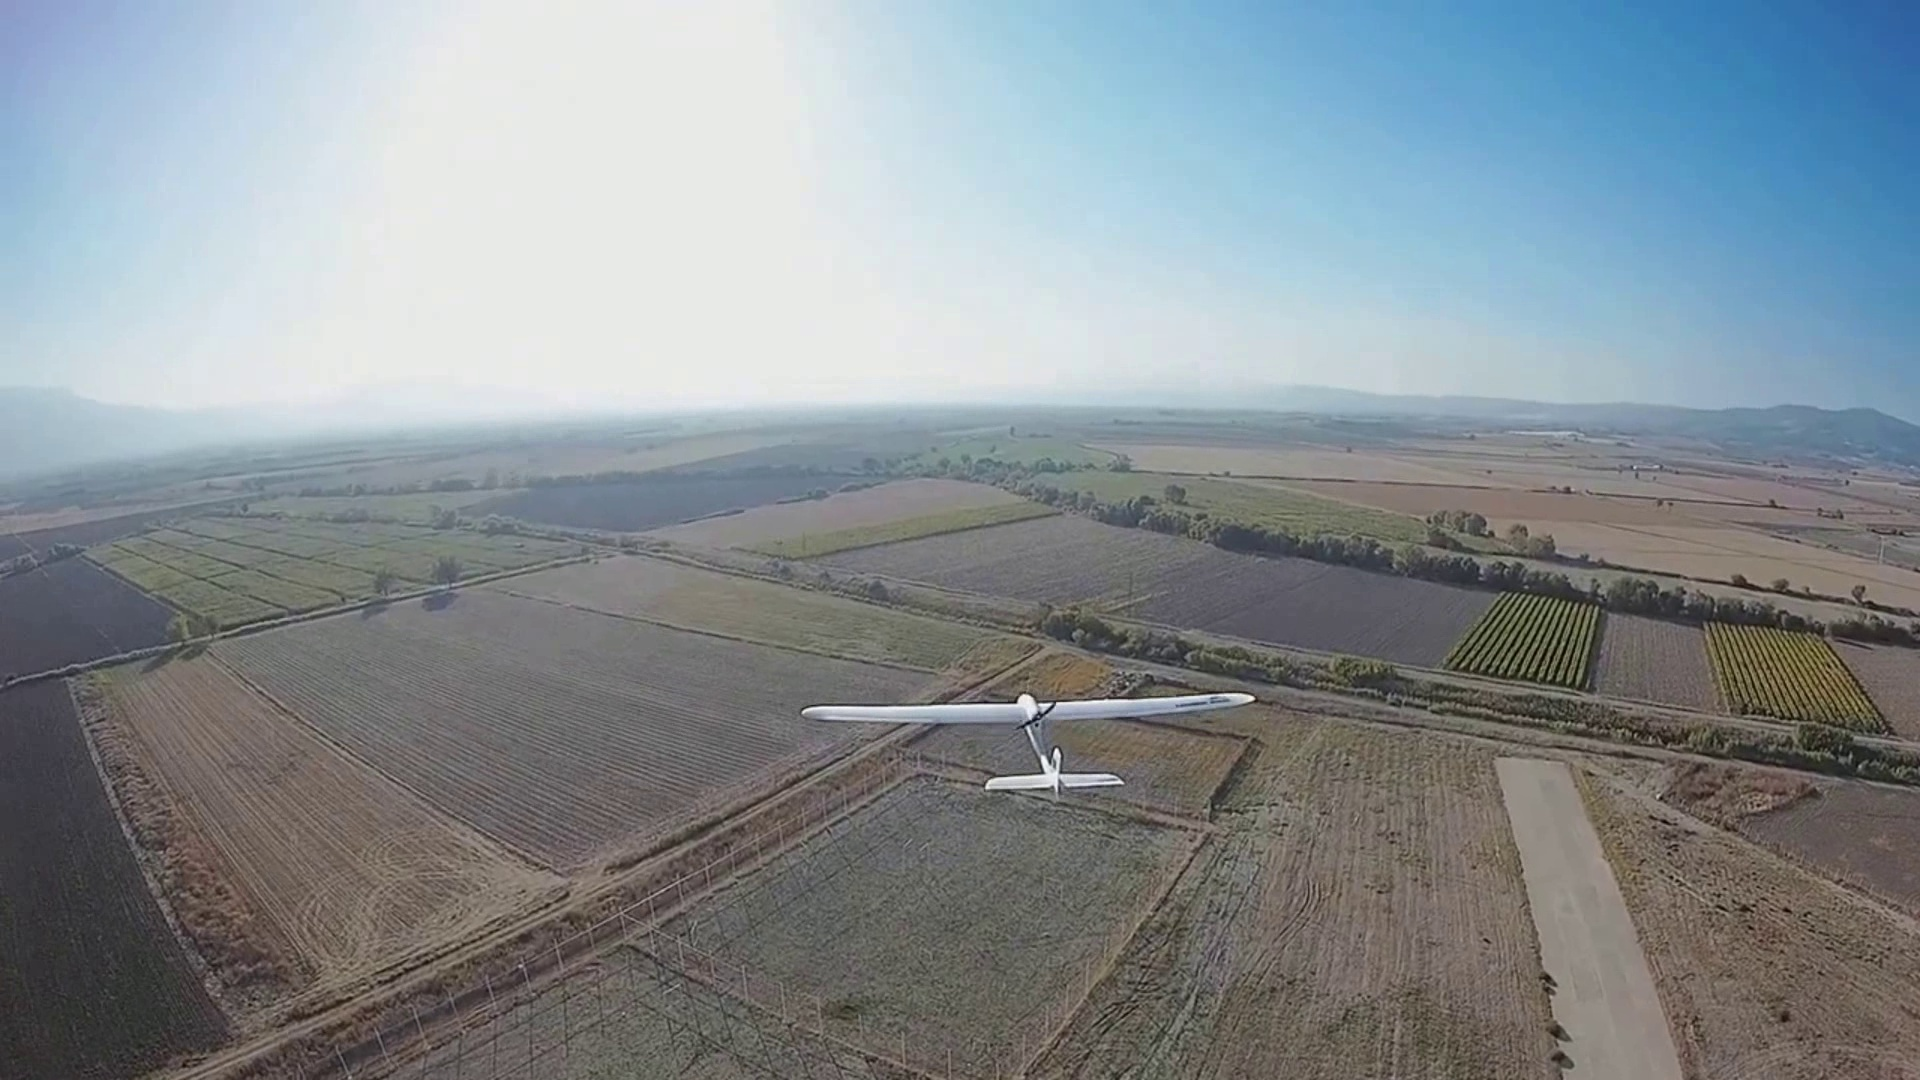airplane: (800, 684, 1255, 800)
